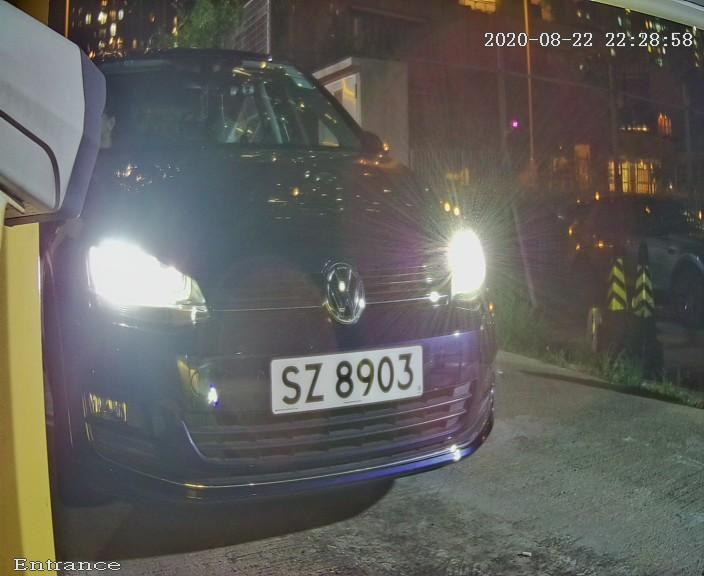Car: (7, 6, 532, 548)
License Plate: (261, 340, 428, 417)
